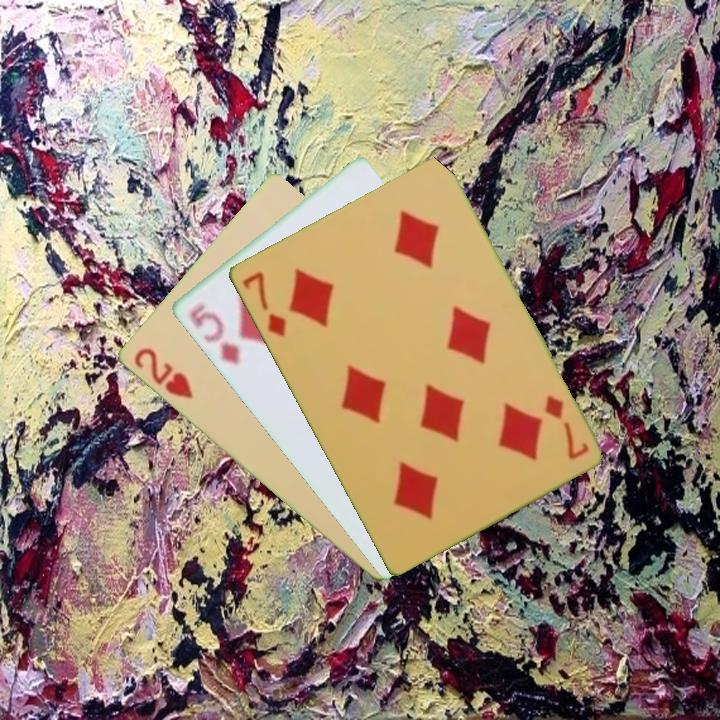2h: (129, 344, 196, 402)
5d: (185, 300, 242, 368)
7d: (540, 391, 592, 463), (238, 267, 289, 340)
